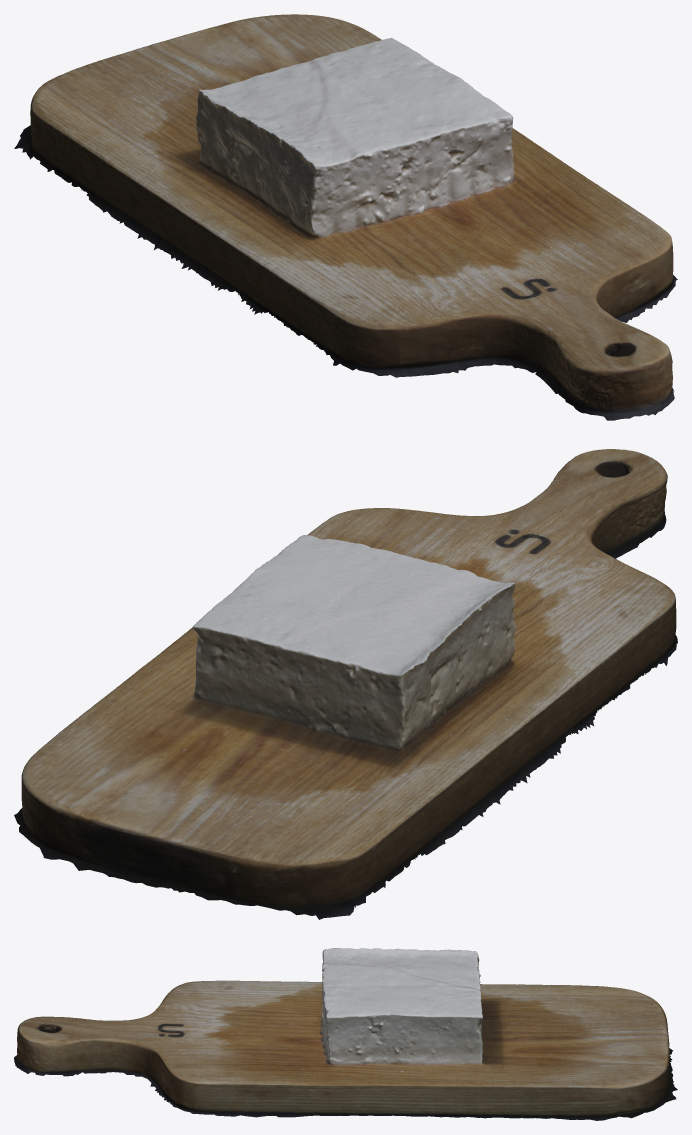
The model's file is tofu_on_a_cutting_board___fbx.obj.
3 views of the same model, one above another, from view 1: azimuth 30°, elevation 25°; view 2: azimuth 150°, elevation 25°; view 3: azimuth 270°, elevation 25° (orthographic). The views are drawn at different scales.
Visible parts, largest first — view 1: tofu_on_a_cutting_board___fbx_0; view 2: tofu_on_a_cutting_board___fbx_0; view 3: tofu_on_a_cutting_board___fbx_0.
Boxes of the visible parts, x1,y1,x2,y2 form: tofu_on_a_cutting_board___fbx_0: [14, 14, 677, 420]; tofu_on_a_cutting_board___fbx_0: [14, 449, 677, 919]; tofu_on_a_cutting_board___fbx_0: [14, 948, 677, 1120].
Bounding box in the file's own units: 1.05 × 0.3933 × 2.52.
1 material, 1 textured.
